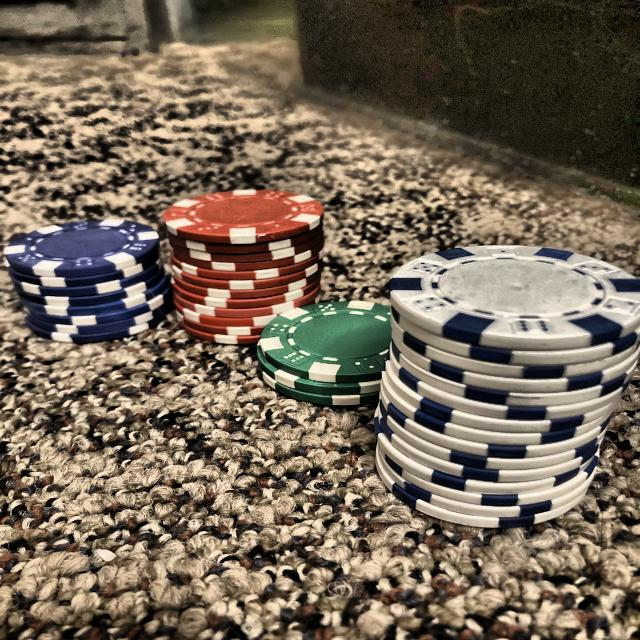Chip: (341, 212, 640, 519), (159, 165, 337, 359), (18, 200, 184, 349), (249, 288, 397, 422)
